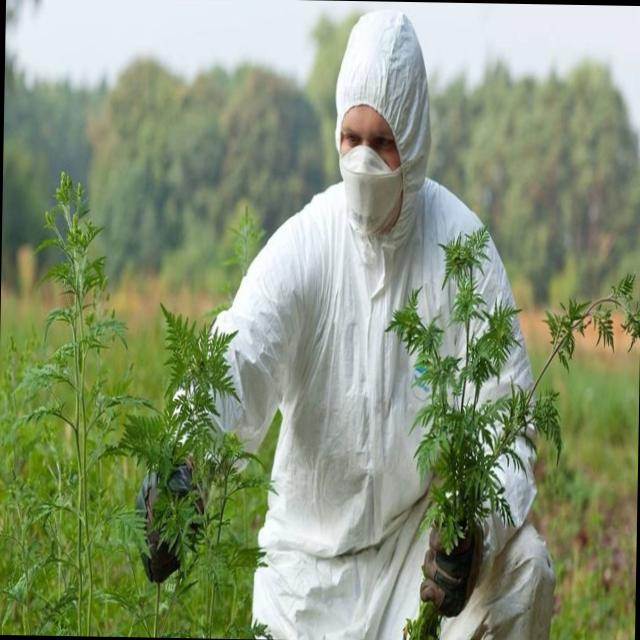ambrosia: (16, 174, 139, 606), (134, 292, 274, 639), (404, 220, 528, 570), (453, 268, 640, 430)
